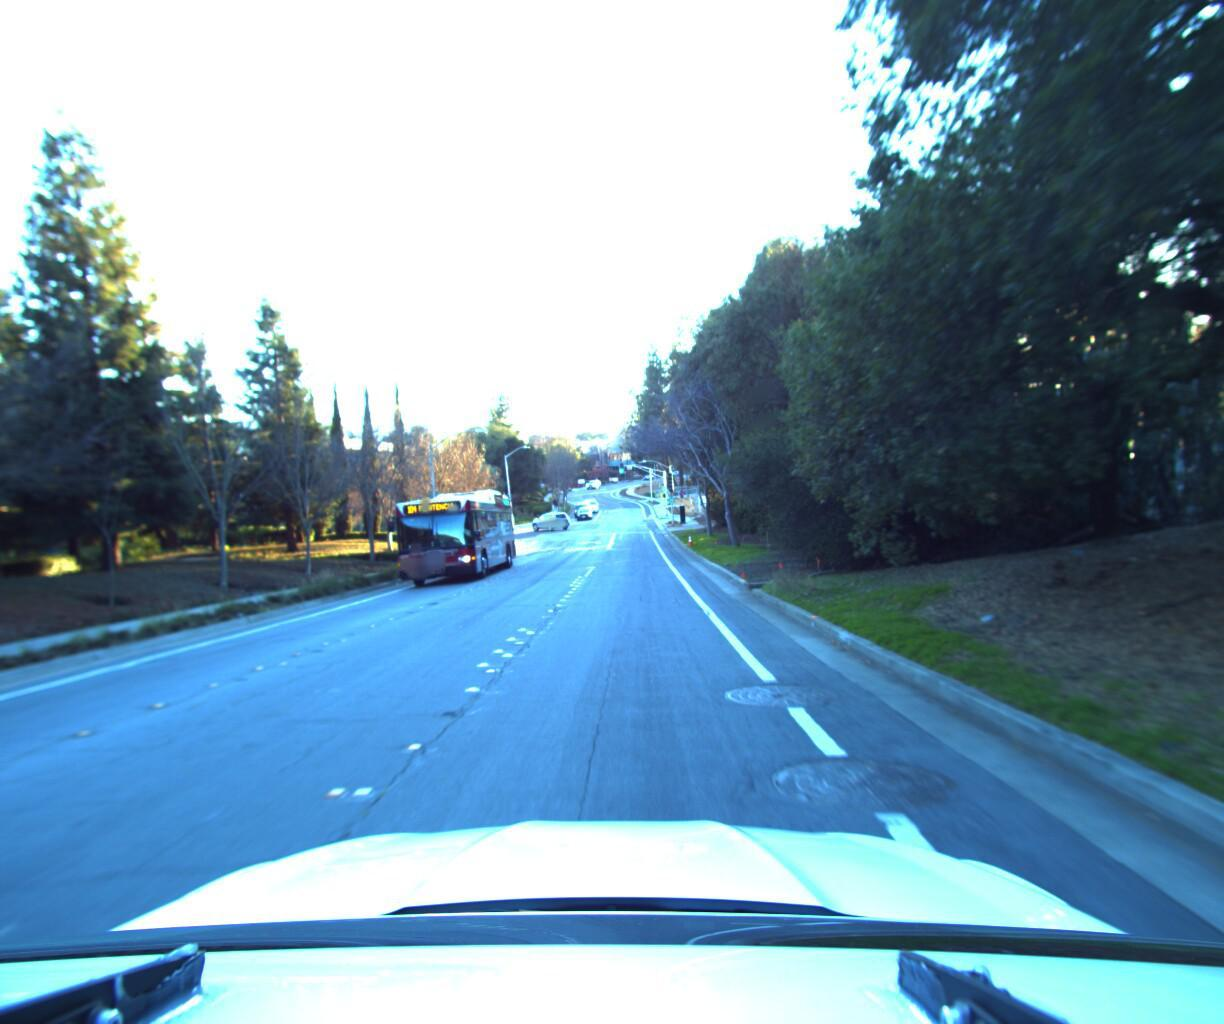bus: (382, 483, 522, 615)
car: (527, 509, 573, 530)
